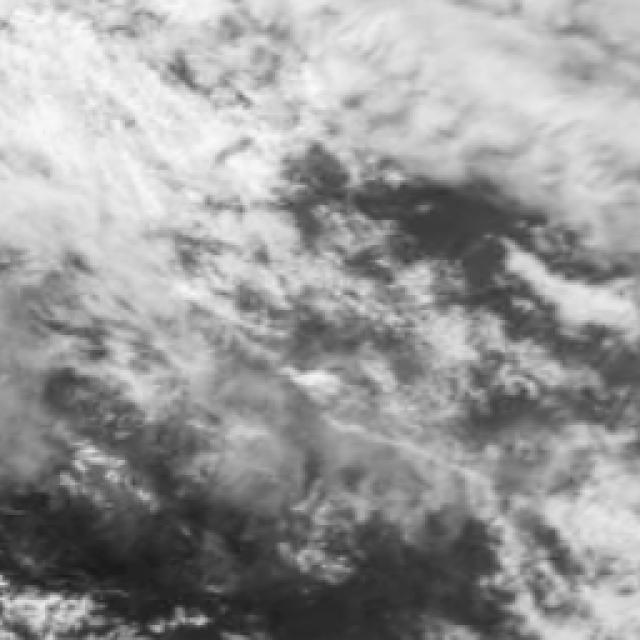CB: (409, 3, 640, 174), (194, 2, 414, 172), (0, 175, 210, 340), (0, 0, 185, 175)
